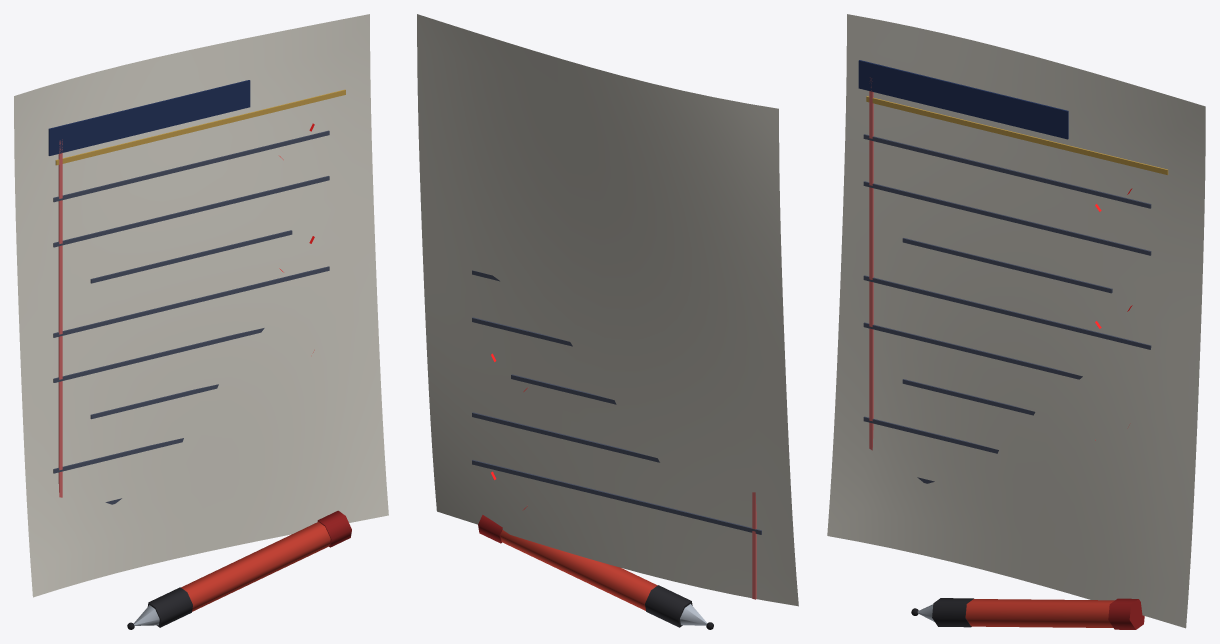
File: exam-paper.glb
3 renders of one model, left to right at view 1: azimuth 30°, elevation 25°; view 2: azimuth 150°, elevation 25°; view 3: azimuth 330°, elevation 25°, orthographic. The views are drawn at different scales.
Visible parts, largest first — view 1: Sheet, ExamPaper, Pen; view 2: Sheet, Pen, ExamPaper; view 3: Sheet, ExamPaper, Pen.
Part boxes in pixels (x1,y1,x2,y2): Sheet: (14, 14, 388, 597); ExamPaper: (48, 80, 345, 504); Pen: (127, 510, 351, 629); Sheet: (417, 14, 798, 606); Pen: (478, 515, 713, 629); ExamPaper: (472, 270, 761, 599); Sheet: (827, 14, 1205, 628); ExamPaper: (858, 60, 1168, 483); Pen: (911, 598, 1144, 629).
Size of the model in its own units: 1.5 by 2.21 by 0.2827.
